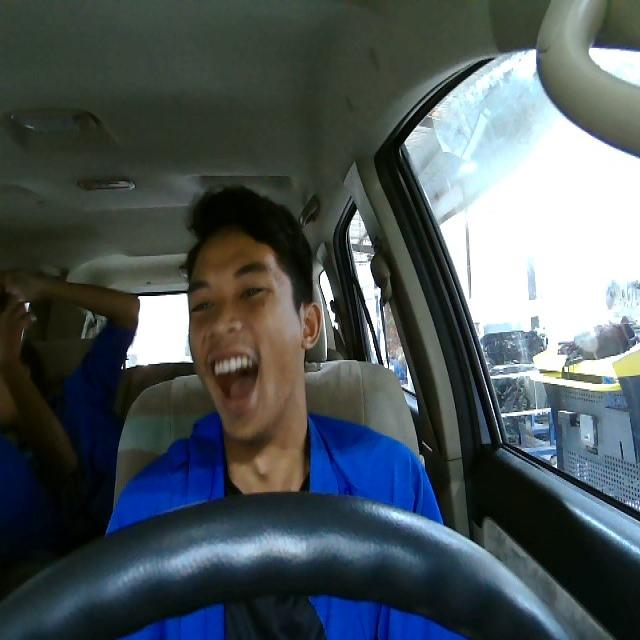yarning: (185, 224, 322, 441)
